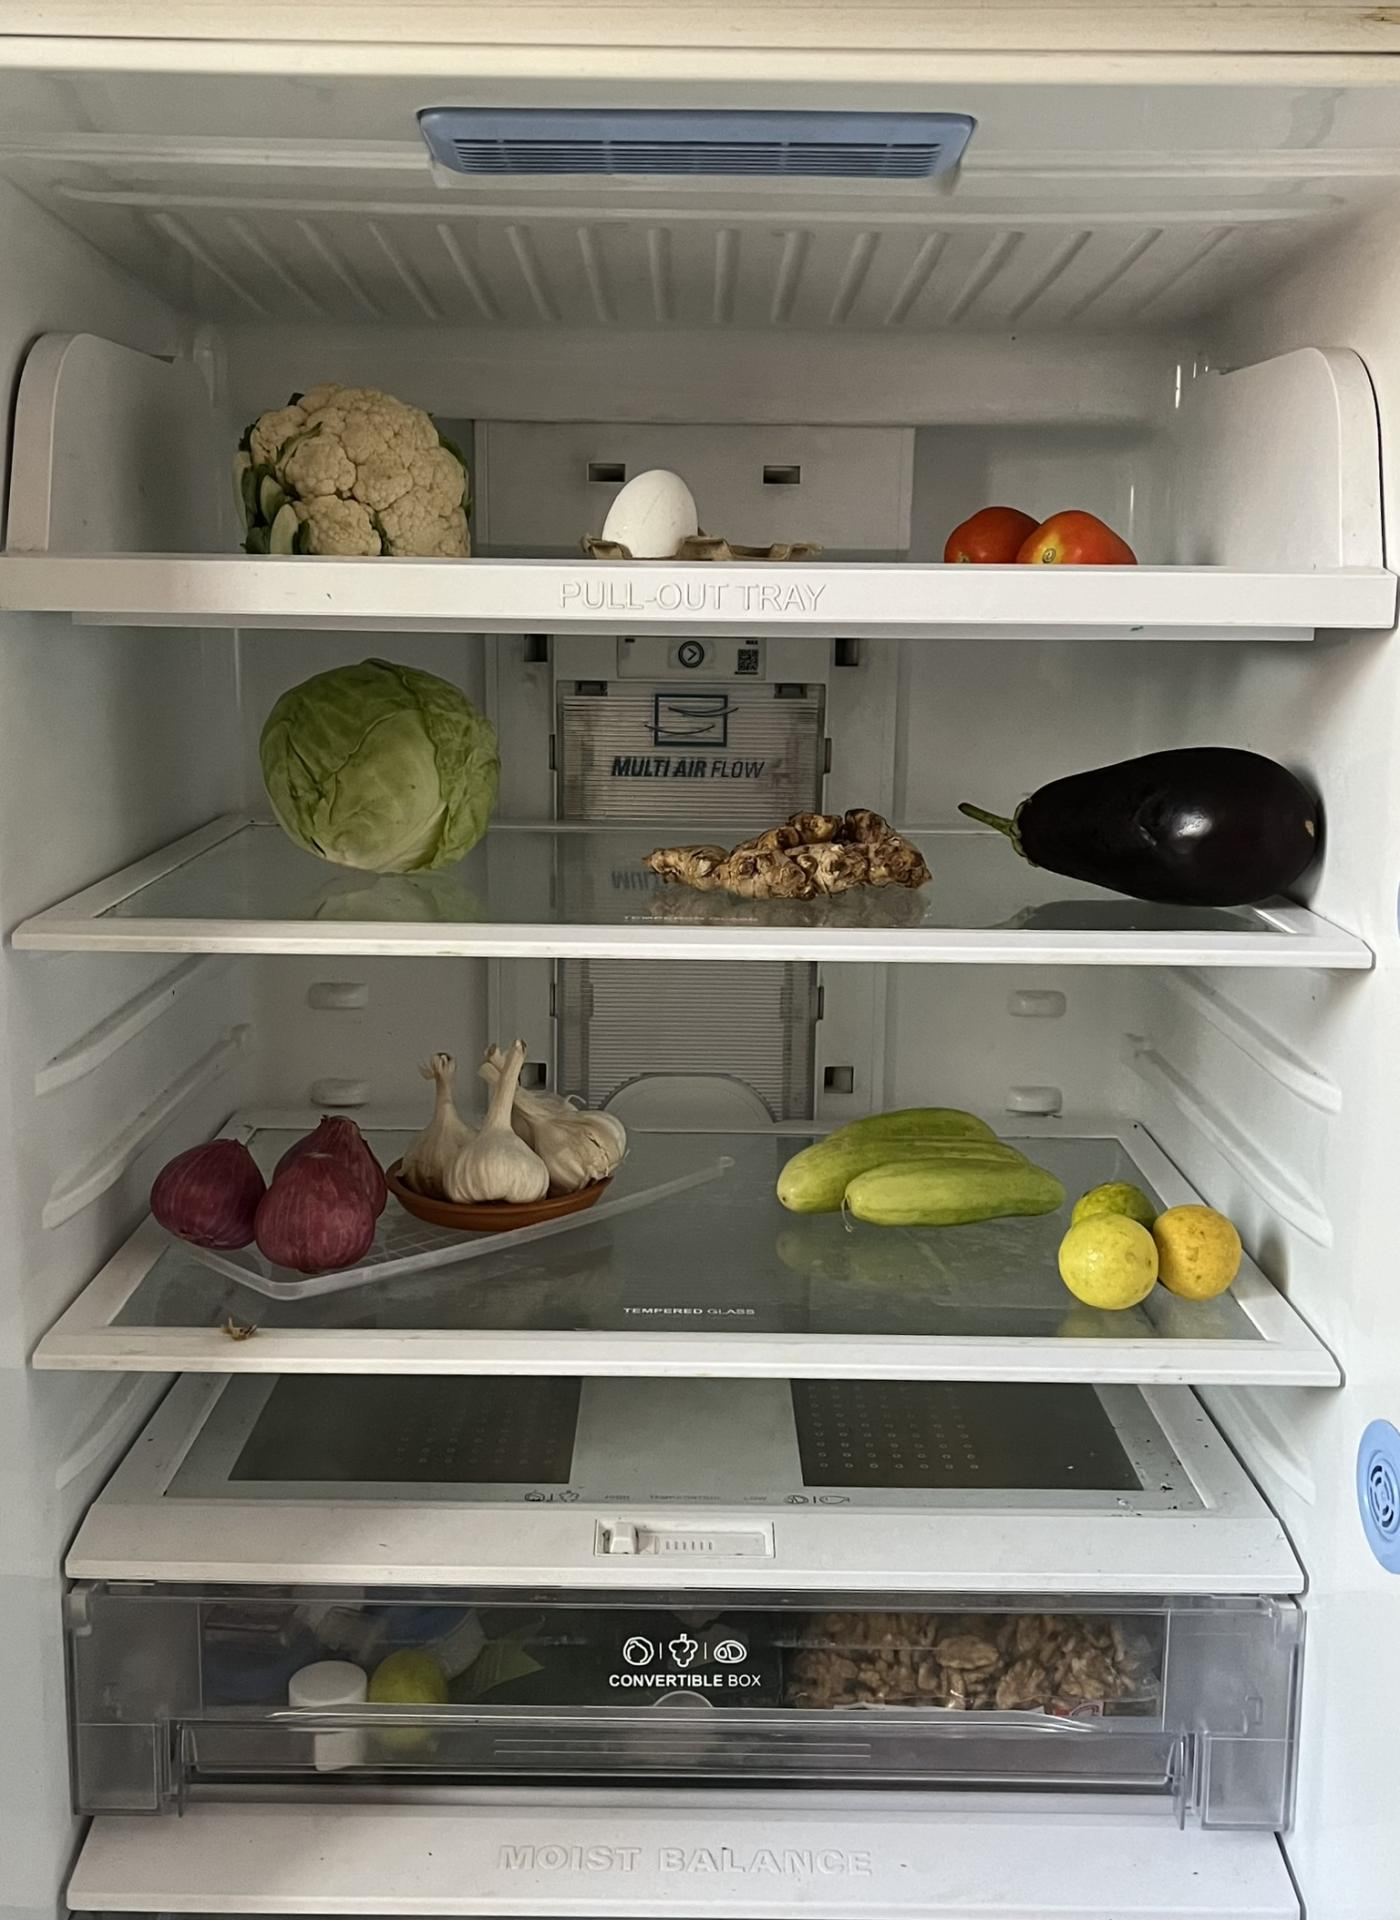brinjal: (969, 754, 1328, 902)
cabbage: (265, 656, 501, 872)
cauliflower: (234, 377, 482, 559)
cucumber: (772, 1106, 1066, 1227)
egg: (596, 465, 711, 559)
garlic: (397, 1029, 623, 1204)
ginger: (646, 808, 929, 905)
lemon: (1060, 1179, 1258, 1319)
onion: (157, 1121, 385, 1270)
tomato: (944, 502, 1132, 568)
